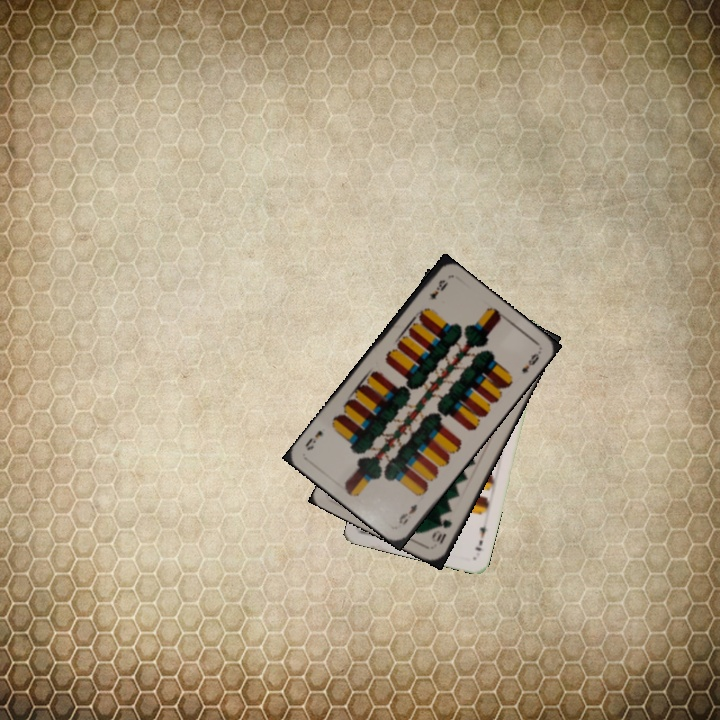E7: (471, 519, 489, 553)
E9: (394, 500, 420, 527), (425, 275, 450, 303)
G10: (428, 515, 455, 547)
